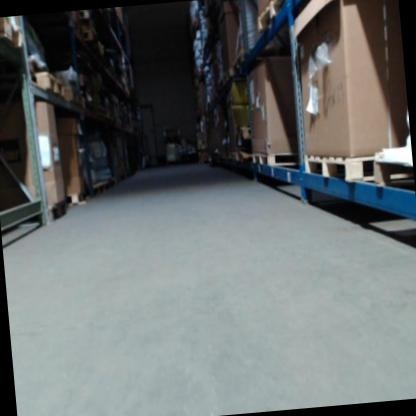pallet: (302, 148, 378, 190), (255, 0, 289, 33), (251, 148, 300, 170), (33, 67, 65, 99), (0, 16, 23, 53), (49, 199, 69, 220), (230, 48, 246, 74), (222, 66, 233, 84)
